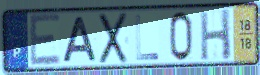0: (168, 10, 194, 63)
A: (60, 16, 99, 64)
E: (28, 13, 62, 69)
H: (198, 7, 233, 62)
L: (134, 13, 161, 62)
X: (98, 11, 129, 67)
